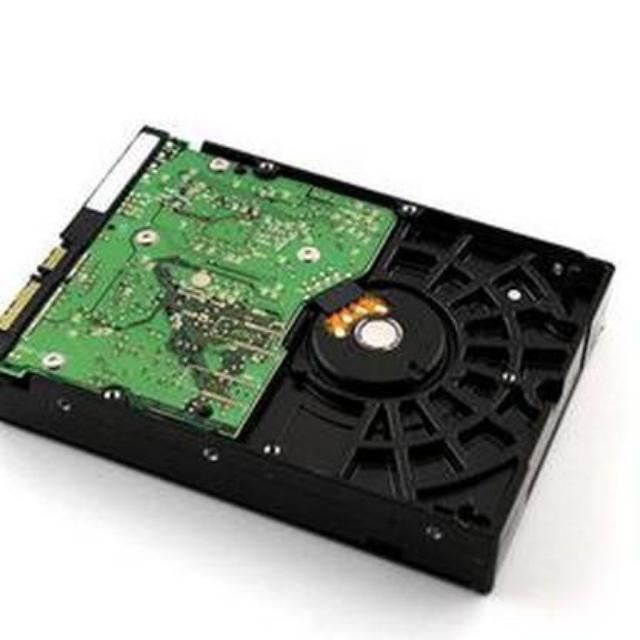DISK: (0, 118, 617, 600)
